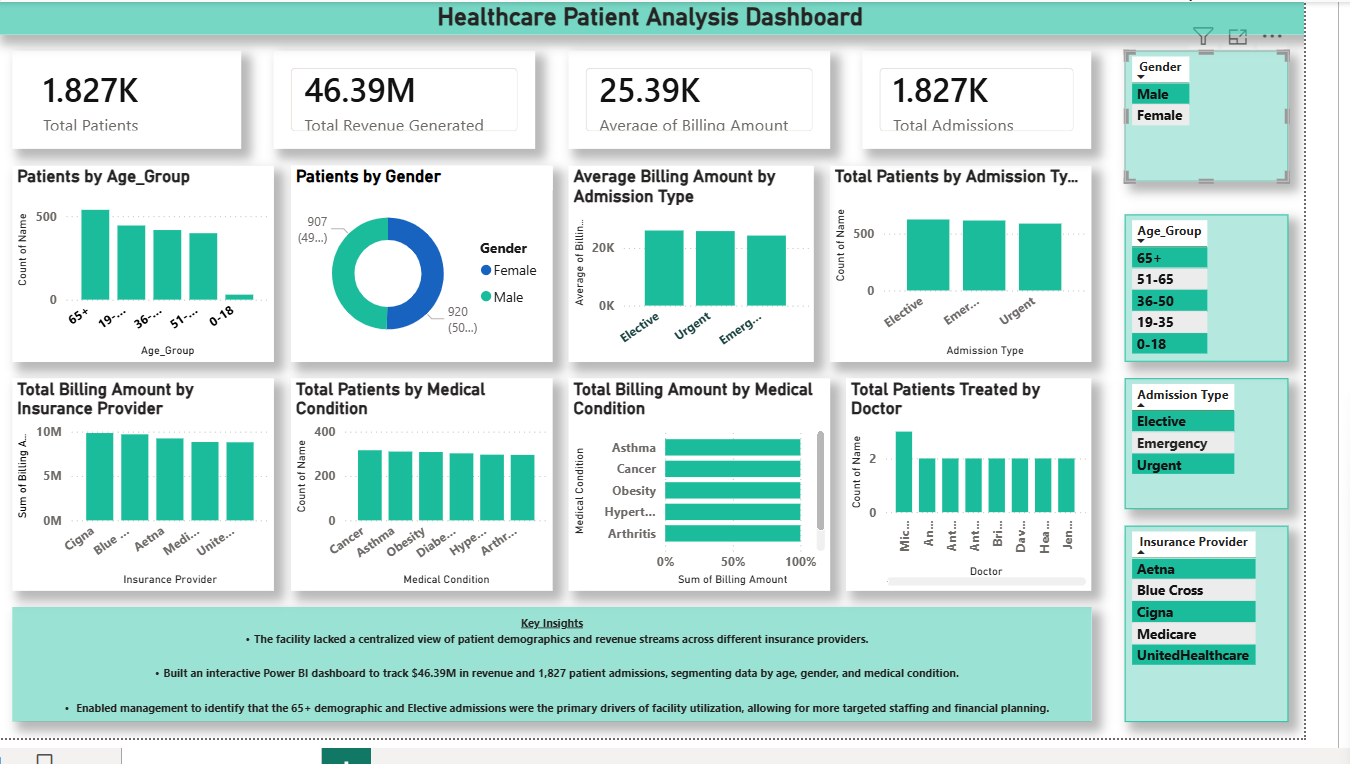

What the dashboard file says about the page in this screenshot:
{"tool":"powerbi","page":{"name":"healthcare_dashboard","canvas":[1280,720],"ordinal":0},"visuals":[{"type":"cardVisual","fields":{"Data":["CountNonNull(healthcare_dataset.Name)"]},"box":[16,48,224,112],"z":0},{"type":"cardVisual","fields":{"Data":["Sum(healthcare_dataset.Billing Amount)"]},"box":[272,48,256,112],"z":1000},{"type":"cardVisual","fields":{"Data":["Avg(healthcare_dataset.Billing Amount)"]},"box":[560,48,256,112],"z":2000},{"type":"clusteredColumnChart","title":"Patients by Age_Group","fields":{"Category":["healthcare_dataset.Age_Group"],"Y":["CountNonNull(healthcare_dataset.Name)"]},"box":[16,176,256,208],"z":3000},{"type":"donutChart","title":"Patients by Gender","fields":{"Category":["healthcare_dataset.Gender"],"Y":["CountNonNull(healthcare_dataset.Name)"]},"box":[288,176,256,208],"z":4000},{"type":"clusteredColumnChart","title":"Total Patients by Admission Type","fields":{"Category":["healthcare_dataset.Admission Type"],"Y":["CountNonNull(healthcare_dataset.Name)"]},"box":[816,176,256,208],"z":5000},{"type":"clusteredColumnChart","title":"Average Billing Amount by Admission Type","fields":{"Category":["healthcare_dataset.Admission Type"],"Y":["Avg(healthcare_dataset.Billing Amount)"]},"box":[560,176,240,208],"z":6000},{"type":"clusteredColumnChart","title":"Total Billing Amount by Insurance Provider","fields":{"Category":["healthcare_dataset.Insurance Provider"],"Y":["Sum(healthcare_dataset.Billing Amount)"]},"box":[16,416,256,256],"z":7000},{"type":"clusteredColumnChart","title":"Total Patients by Medical Condition","fields":{"Category":["healthcare_dataset.Medical Condition"],"Y":["CountNonNull(healthcare_dataset.Name)"]},"box":[288,416,256,256],"z":8000},{"type":"hundredPercentStackedBarChart","title":"Total Billing Amount by Medical Condition","fields":{"Category":["healthcare_dataset.Medical Condition"],"Y":["Sum(healthcare_dataset.Billing Amount)"]},"box":[560,416,256,256],"z":9000},{"type":"clusteredColumnChart","title":"Total Patients Treated by Doctor","fields":{"Category":["healthcare_dataset.Doctor"],"Y":["CountNonNull(healthcare_dataset.Name)"]},"box":[832,416,240,256],"z":10000},{"type":"cardVisual","fields":{"Data":["CountNonNull(healthcare_dataset.Admission Type)"]},"box":[848,48,224,112],"z":11000},{"type":"tableEx","fields":{"Values":["healthcare_dataset.Gender"]},"box":[1104,48,160,64],"z":12000},{"type":"tableEx","fields":{"Values":["healthcare_dataset.Age_Group"]},"box":[1104,128,160,64],"z":13000},{"type":"tableEx","fields":{"Values":["healthcare_dataset.Admission Type"]},"box":[1104,208,160,64],"z":14000},{"type":"tableEx","fields":{"Values":["healthcare_dataset.Insurance Provider"]},"box":[1104,288,160,80],"z":15000},{"type":"shape","title":"Healthcare Patient Analysis Dashboard","box":[0,0,1280,32],"z":16000},{"type":"textbox","box":[1088,384,176,336],"z":17000}]}

Visuals, with their boxes in screenshot pixels (x1, y1, x2, y2), scaled from the page's 1280x720 canvas onto the 1350x764 screenshot:
cardVisual - CountNonNull(healthcare_dataset.Name): region(17, 51, 253, 170)
cardVisual - Sum(healthcare_dataset.Billing Amount): region(287, 51, 557, 170)
cardVisual - Avg(healthcare_dataset.Billing Amount): region(591, 51, 861, 170)
"Patients by Age_Group" clusteredColumnChart: region(17, 187, 287, 407)
"Patients by Gender" donutChart: region(304, 187, 574, 407)
"Total Patients by Admission Type" clusteredColumnChart: region(861, 187, 1131, 407)
"Average Billing Amount by Admission Type" clusteredColumnChart: region(591, 187, 844, 407)
"Total Billing Amount by Insurance Provider" clusteredColumnChart: region(17, 441, 287, 713)
"Total Patients by Medical Condition" clusteredColumnChart: region(304, 441, 574, 713)
"Total Billing Amount by Medical Condition" hundredPercentStackedBarChart: region(591, 441, 861, 713)
"Total Patients Treated by Doctor" clusteredColumnChart: region(878, 441, 1131, 713)
cardVisual - CountNonNull(healthcare_dataset.Admission Type): region(894, 51, 1131, 170)
tableEx - healthcare_dataset.Gender: region(1164, 51, 1333, 119)
tableEx - healthcare_dataset.Age_Group: region(1164, 136, 1333, 204)
tableEx - healthcare_dataset.Admission Type: region(1164, 221, 1333, 289)
tableEx - healthcare_dataset.Insurance Provider: region(1164, 306, 1333, 390)
"Healthcare Patient Analysis Dashboard" shape: region(0, 0, 1349, 34)
textbox: region(1148, 407, 1333, 763)
